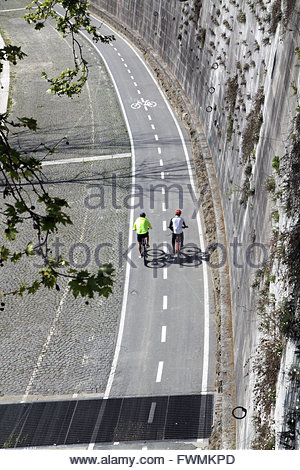bikerider: (161, 203, 195, 266), (127, 210, 153, 263)
